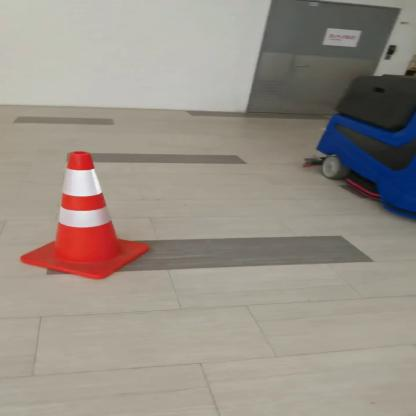cone: (16, 146, 153, 279)
